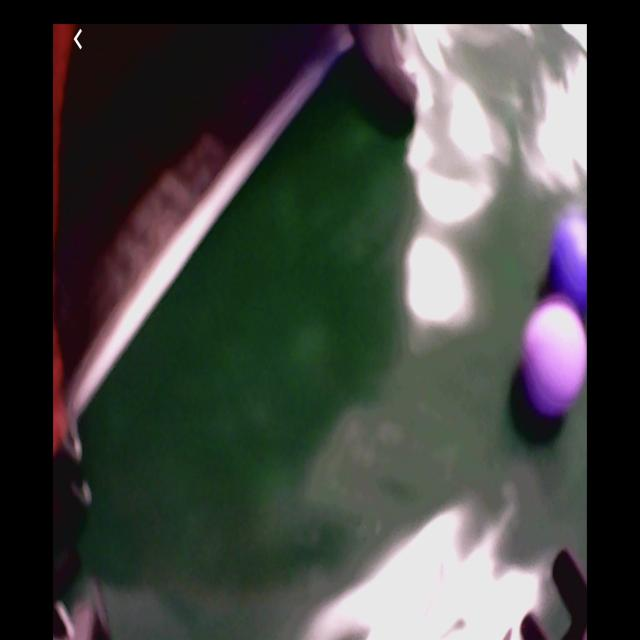ball: (522, 303, 589, 419), (553, 214, 587, 312)
